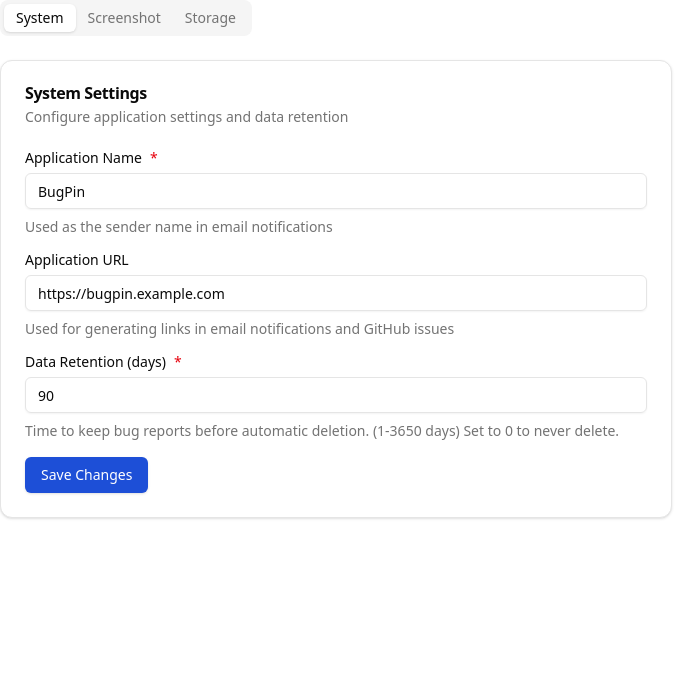
Test: Settings Page › navigates to Screenshot tab
Click the tab "Screenshot": click(124, 18) [76,4,173,32]
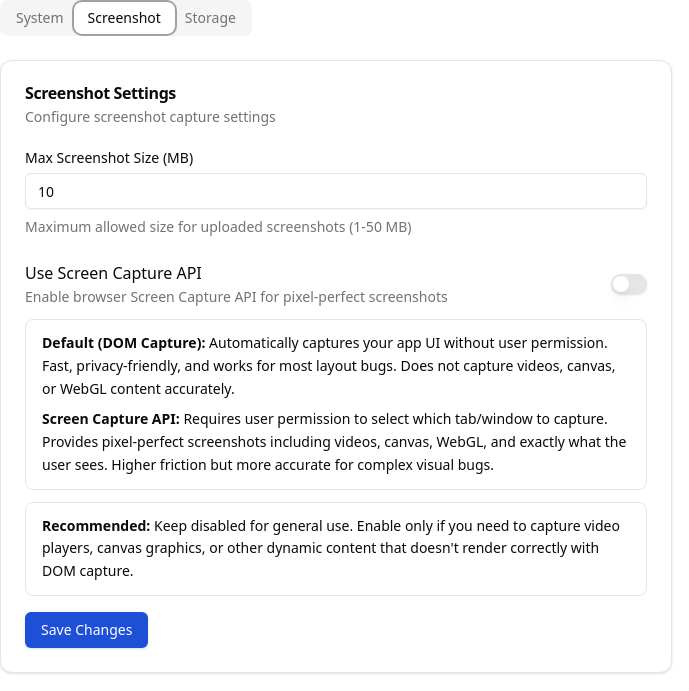
Expected: the text "Screenshot Settings" is shown, [25,82,176,104]
